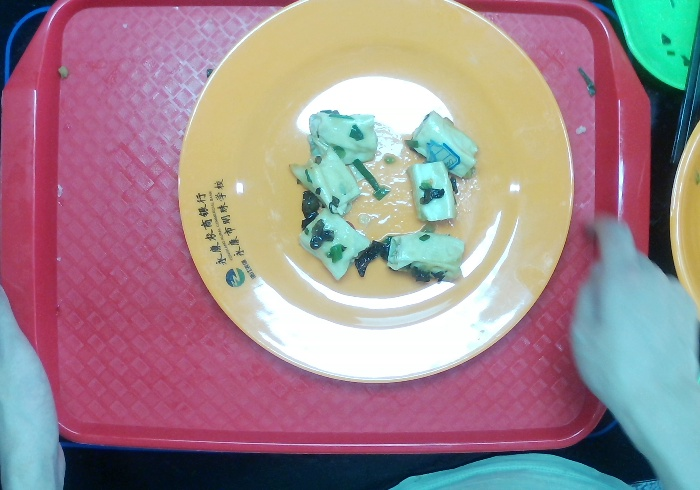YKMZ-Ju_Se_Mian_Pan: (174, 1, 576, 384)
